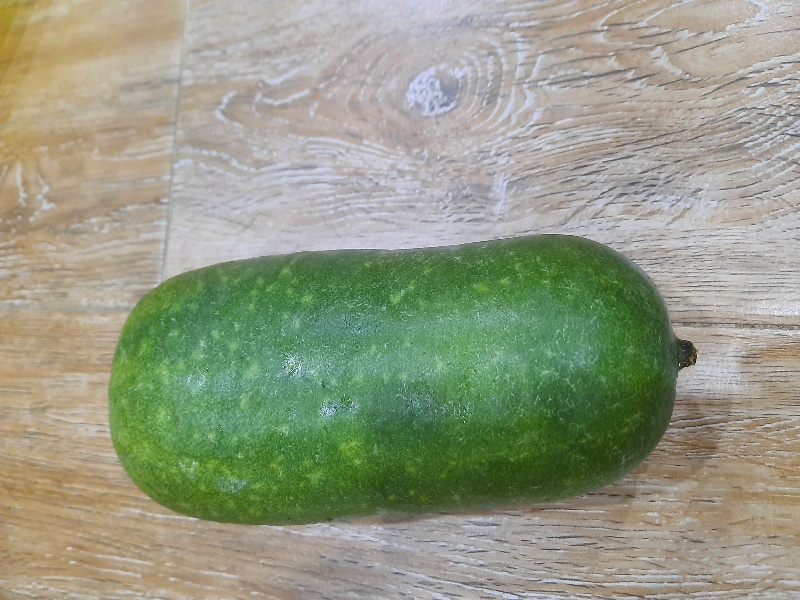vege: (99, 231, 705, 538)
